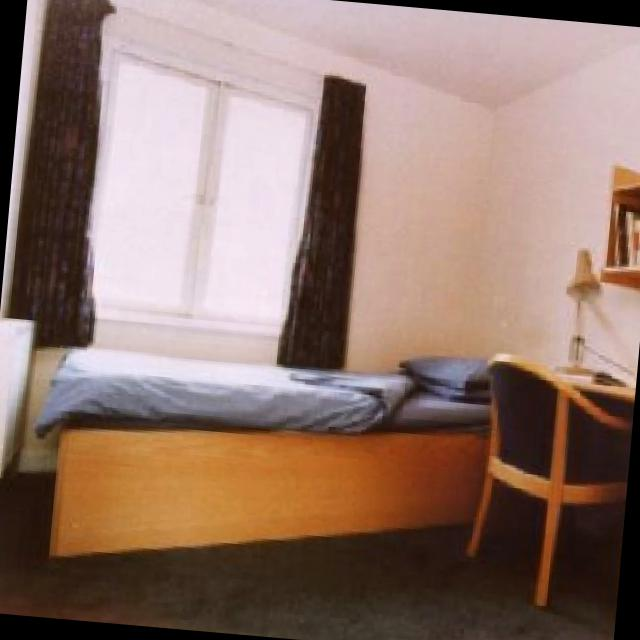2001: (94, 33, 322, 332)
bed -occluded-: (39, 345, 493, 555)
books crop: (619, 198, 640, 260)
ceiling beam: (214, 0, 640, 107)
chair -occluded-: (470, 350, 633, 601)
curtain crop: (10, 0, 119, 341), (284, 73, 368, 363)
lamp crop: (557, 245, 604, 372)
pillow occluded: (418, 355, 494, 395)
shelf crop: (606, 165, 640, 268)
